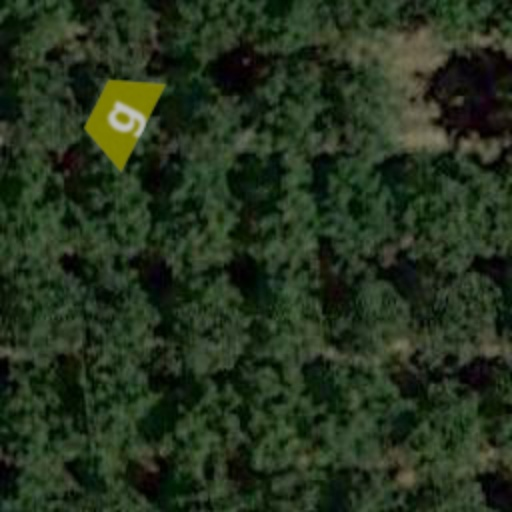trapezoid: (52, 48, 188, 184)
